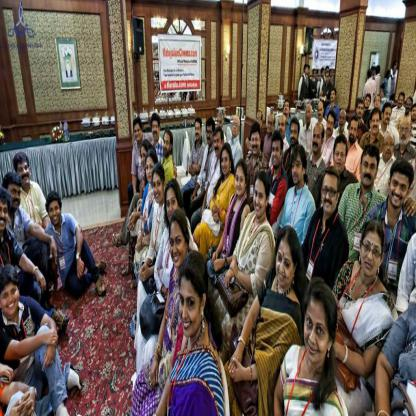face: (304, 302, 329, 363), (181, 278, 203, 337), (361, 231, 382, 276), (277, 241, 293, 289), (390, 170, 410, 208), (171, 223, 186, 267), (1, 283, 20, 316), (322, 174, 338, 213), (362, 156, 378, 187), (254, 180, 266, 216), (167, 189, 179, 222), (335, 143, 347, 173), (292, 154, 304, 184), (9, 184, 21, 209), (313, 125, 323, 154), (19, 161, 31, 185), (236, 168, 246, 196), (272, 140, 282, 168), (153, 175, 163, 202), (49, 202, 61, 224), (1, 202, 9, 230), (385, 137, 395, 158), (401, 123, 411, 144), (222, 150, 230, 175), (252, 132, 261, 154), (147, 159, 155, 183), (214, 133, 222, 156), (141, 148, 149, 170), (372, 113, 380, 135), (350, 121, 358, 142), (384, 106, 392, 125), (291, 124, 298, 145), (279, 118, 287, 136), (328, 116, 335, 136), (164, 134, 171, 153), (196, 121, 202, 140), (135, 126, 142, 142), (153, 121, 159, 139), (233, 118, 239, 136), (268, 115, 274, 133), (340, 113, 346, 129), (208, 127, 213, 146), (306, 108, 312, 123), (358, 104, 364, 119), (407, 98, 413, 113), (257, 113, 262, 128), (319, 105, 324, 120), (284, 103, 290, 115), (375, 97, 381, 109), (399, 95, 405, 107), (365, 96, 371, 107), (218, 119, 223, 132), (331, 91, 335, 103), (413, 107, 416, 123), (326, 73, 330, 83), (306, 67, 309, 74), (327, 68, 330, 75), (374, 70, 377, 77), (394, 66, 397, 73), (389, 72, 392, 78), (323, 71, 325, 79), (310, 68, 312, 75), (396, 62, 398, 68), (315, 71, 316, 77)
